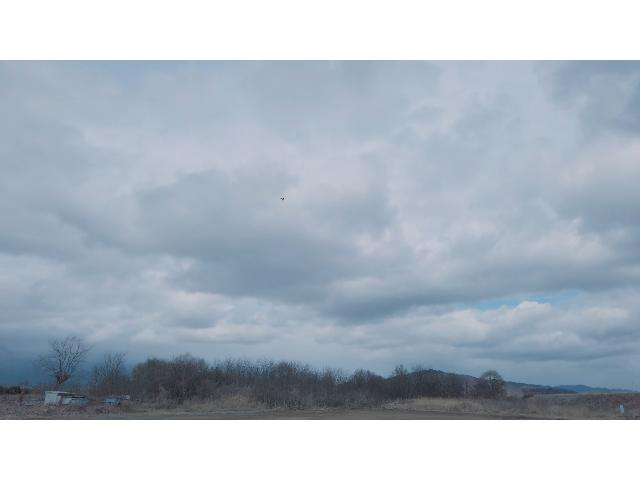Anti-Drone: (274, 192, 290, 206)
